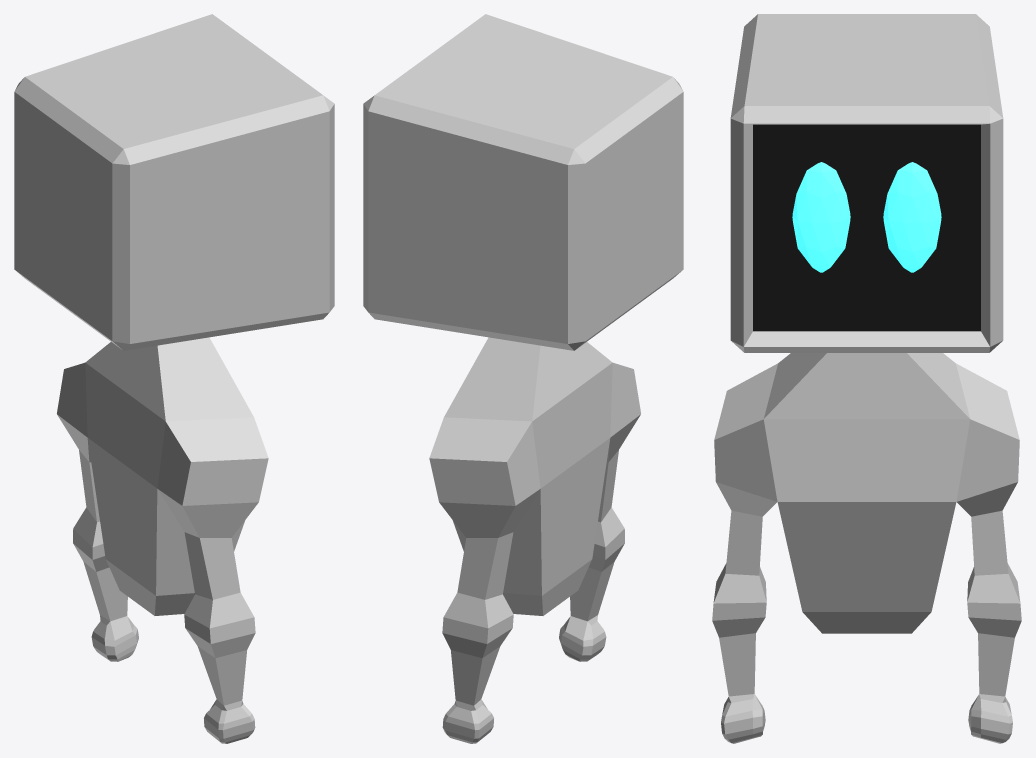
Rendered from base_rob.fbx.
The picture shows the model from 3 angles, left to right: view 1: azimuth 30°, elevation 25°; view 2: azimuth 150°, elevation 25°; view 3: azimuth 270°, elevation 25°; orthographic projection. The views are drawn at different scales.
Visible parts, largest first — view 1: Icosphere; view 2: Icosphere; view 3: Icosphere.
Boxes of the visible parts, x1,y1,x2,y2 form: Icosphere: [14, 14, 334, 743]; Icosphere: [363, 14, 683, 743]; Icosphere: [712, 14, 1021, 743].
Bounding box in the file's own units: 80 × 220 × 90.32.
